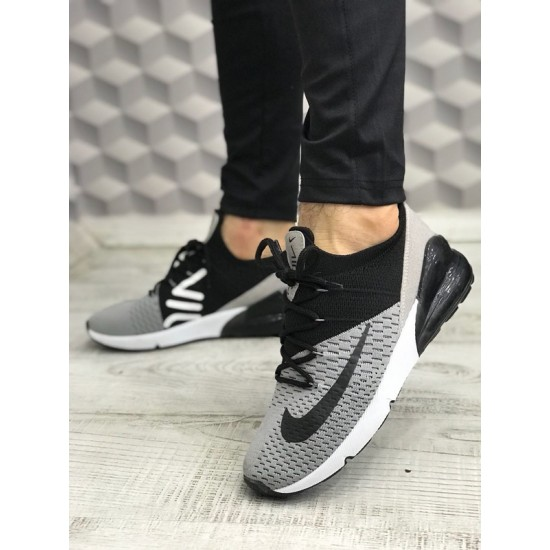nike: (275, 321, 374, 448)
